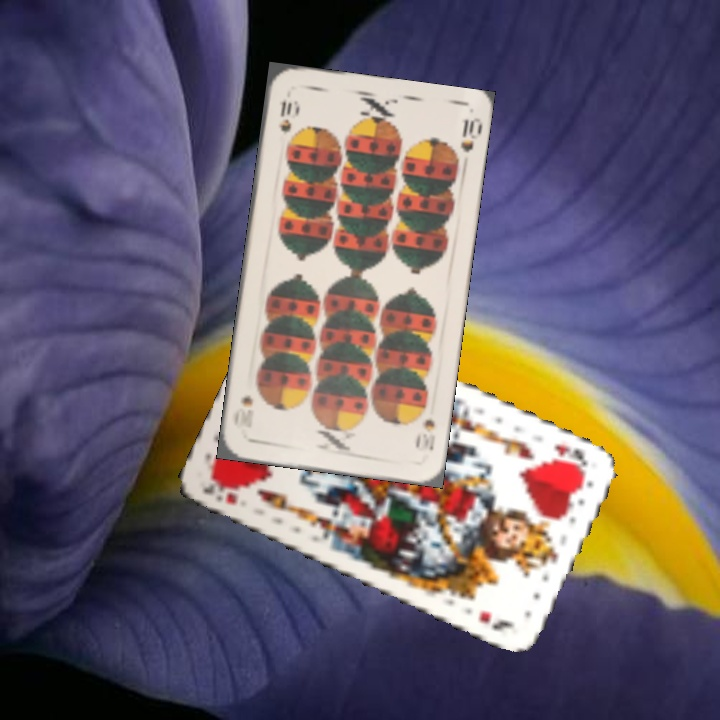HK: (199, 473, 242, 508), (547, 440, 590, 475)
S10: (274, 94, 298, 148), (412, 415, 438, 453)
